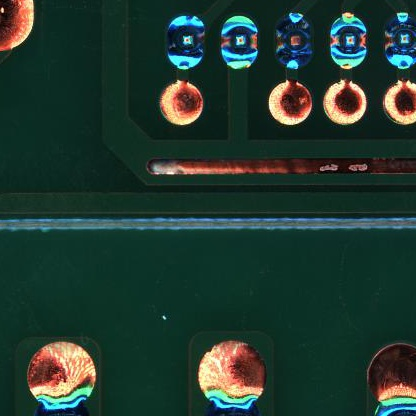spot: (275, 10, 314, 71), (165, 14, 206, 72), (219, 15, 259, 72), (330, 11, 368, 71), (383, 9, 416, 71)
